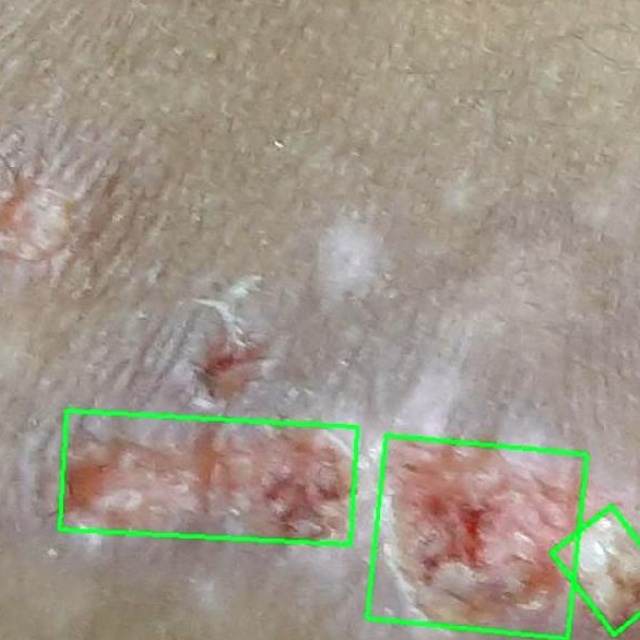Eczema: (368, 435, 586, 639), (60, 411, 358, 545), (551, 507, 639, 634)
